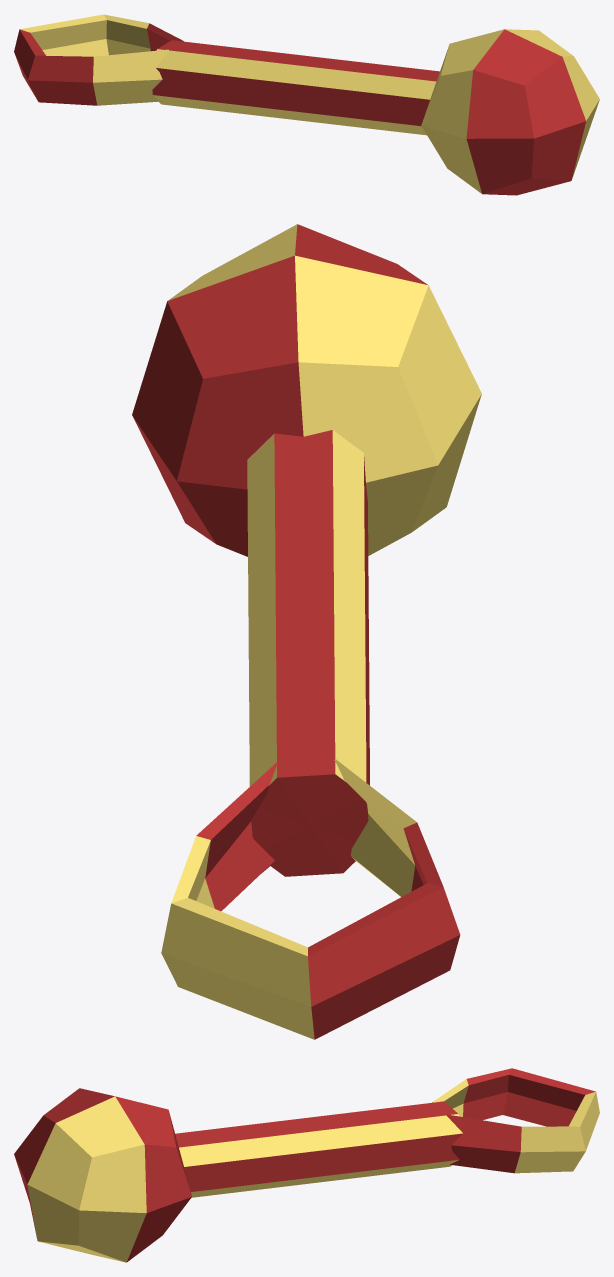
File: Toy_2.fbx
The picture shows the model from 3 angles, top to bottom: view 1: azimuth 30°, elevation 25°; view 2: azimuth 150°, elevation 25°; view 3: azimuth 270°, elevation 25°; orthographic projection. The views are drawn at different scales.
Visible parts, largest first — view 1: Toy_2; view 2: Toy_2; view 3: Toy_2.
Part boxes in pixels (x1,y1,x2,y2): Toy_2: [14, 14, 599, 195]; Toy_2: [132, 224, 481, 1039]; Toy_2: [14, 1068, 599, 1262].
Size of the model in its own units: 29.2 by 41.27 by 12.46.
